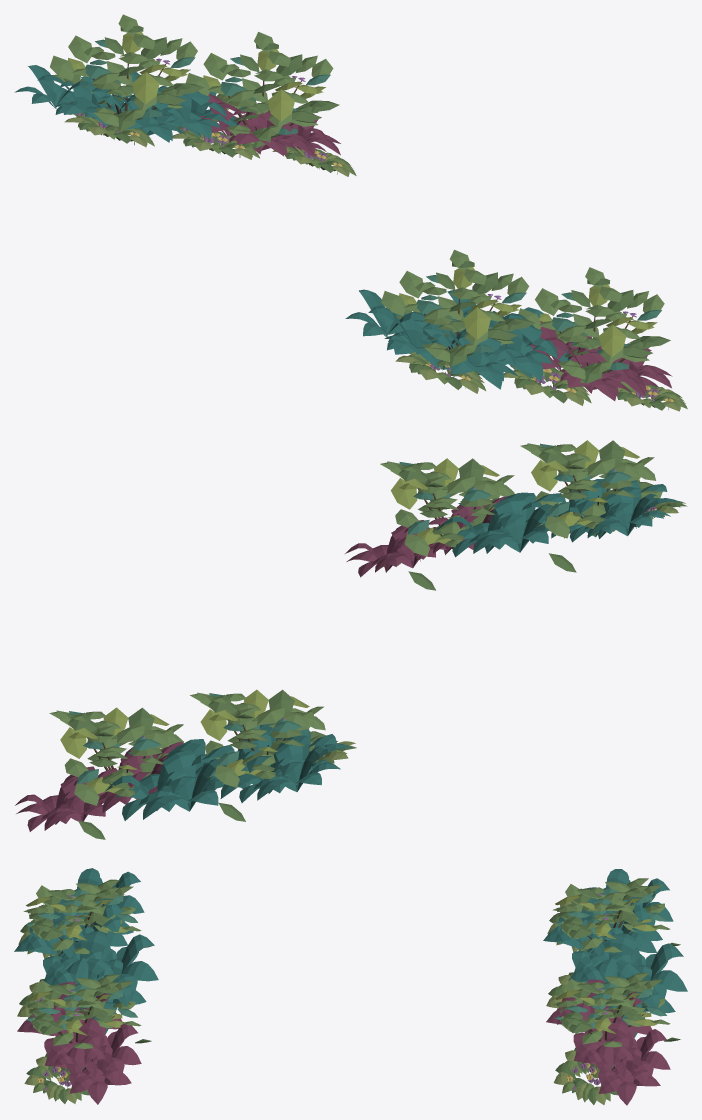
The model's file is park_layered_fixed.glb.
The picture shows the model from 3 angles, top to bottom: view 1: azimuth 30°, elevation 25°; view 2: azimuth 150°, elevation 25°; view 3: azimuth 270°, elevation 25°; orthographic projection. The views are drawn at different scales.
Parts seen in each view (by area): view 1: border_shrub_a, border_shrub_a3, border_shrub_a2, border_shrub_a4, compact_broadleaf_mound6, compact_broadleaf_mound, compact_broadleaf_mound9, compact_broadleaf_mound10, compact_broadleaf_mound7, compact_broadleaf_mound5, compact_broadleaf_mound2, compact_broadleaf_mound4 (+8 smaller); view 2: border_shrub_a2, border_shrub_a4, border_shrub_a3, border_shrub_a, compact_broadleaf_mound2, compact_broadleaf_mound7, compact_broadleaf_mound, compact_broadleaf_mound6, compact_broadleaf_mound3, compact_broadleaf_mound8, compact_broadleaf_mound4, compact_broadleaf_mound5 (+2 smaller); view 3: border_shrub_a4, border_shrub_a2, border_shrub_a, border_shrub_a3, compact_broadleaf_mound7, compact_broadleaf_mound8, compact_broadleaf_mound3, compact_broadleaf_mound2, compact_broadleaf_mound9, compact_broadleaf_mound4, compact_broadleaf_mound5, flower_groundcover_mat3 (+5 smaller).
Part boxes in pixels (left/top/right/bottom): border_shrub_a: left=50, top=14, right=203, bottom=131; border_shrub_a3: left=381, top=249, right=535, bottom=366; border_shrub_a2: left=185, top=32, right=339, bottom=148; border_shrub_a4: left=518, top=267, right=670, bottom=383; compact_broadleaf_mound6: left=345, top=289, right=459, bottom=368; compact_broadleaf_mound: left=14, top=65, right=124, bottom=126; compact_broadleaf_mound9: left=401, top=312, right=532, bottom=389; compact_broadleaf_mound10: left=530, top=321, right=645, bottom=400; compact_broadleaf_mound7: left=447, top=290, right=571, bottom=381; compact_broadleaf_mound5: left=200, top=93, right=314, bottom=156; compact_broadleaf_mound2: left=114, top=68, right=238, bottom=138; compact_broadleaf_mound4: left=70, top=76, right=201, bottom=142; border_shrub_a2: left=49, top=707, right=183, bottom=839; border_shrub_a4: left=380, top=458, right=514, bottom=590; border_shrub_a3: left=520, top=440, right=662, bottom=572; border_shrub_a: left=190, top=689, right=326, bottom=821; compact_broadleaf_mound2: left=106, top=739, right=239, bottom=820; compact_broadleaf_mound7: left=436, top=492, right=570, bottom=557; compact_broadleaf_mound: left=239, top=731, right=351, bottom=802; compact_broadleaf_mound6: left=558, top=484, right=681, bottom=542; compact_broadleaf_mound3: left=15, top=766, right=117, bottom=831; compact_broadleaf_mound8: left=345, top=517, right=452, bottom=577; compact_broadleaf_mound4: left=191, top=723, right=309, bottom=798; compact_broadleaf_mound5: left=73, top=741, right=182, bottom=815; border_shrub_a4: left=23, top=974, right=151, bottom=1048; border_shrub_a2: left=552, top=973, right=680, bottom=1047; border_shrub_a: left=552, top=878, right=680, bottom=952; border_shrub_a3: left=23, top=879, right=151, bottom=953; compact_broadleaf_mound7: left=44, top=931, right=158, bottom=1034; compact_broadleaf_mound8: left=45, top=1018, right=141, bottom=1104; compact_broadleaf_mound3: left=573, top=1020, right=670, bottom=1105; compact_broadleaf_mound2: left=568, top=933, right=687, bottom=1037; compact_broadleaf_mound9: left=14, top=899, right=127, bottom=983; compact_broadleaf_mound4: left=543, top=897, right=656, bottom=982; compact_broadleaf_mound5: left=546, top=979, right=652, bottom=1071; flower_groundcover_mat3: left=553, top=1047, right=617, bottom=1104.
Size of the model in its own units: 2.59 by 1.37 by 5.83.
